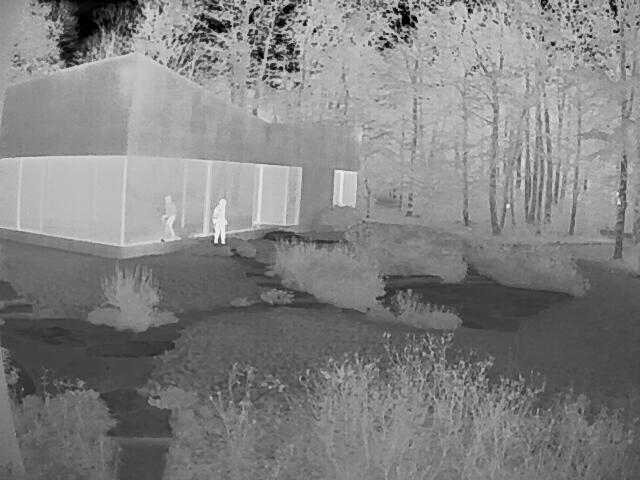person: (209, 195, 228, 244), (159, 195, 176, 239)
